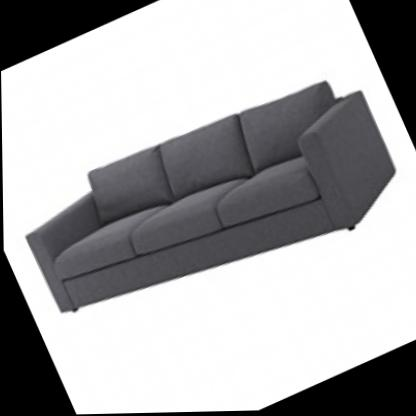Sofa: (0, 24, 410, 354)
